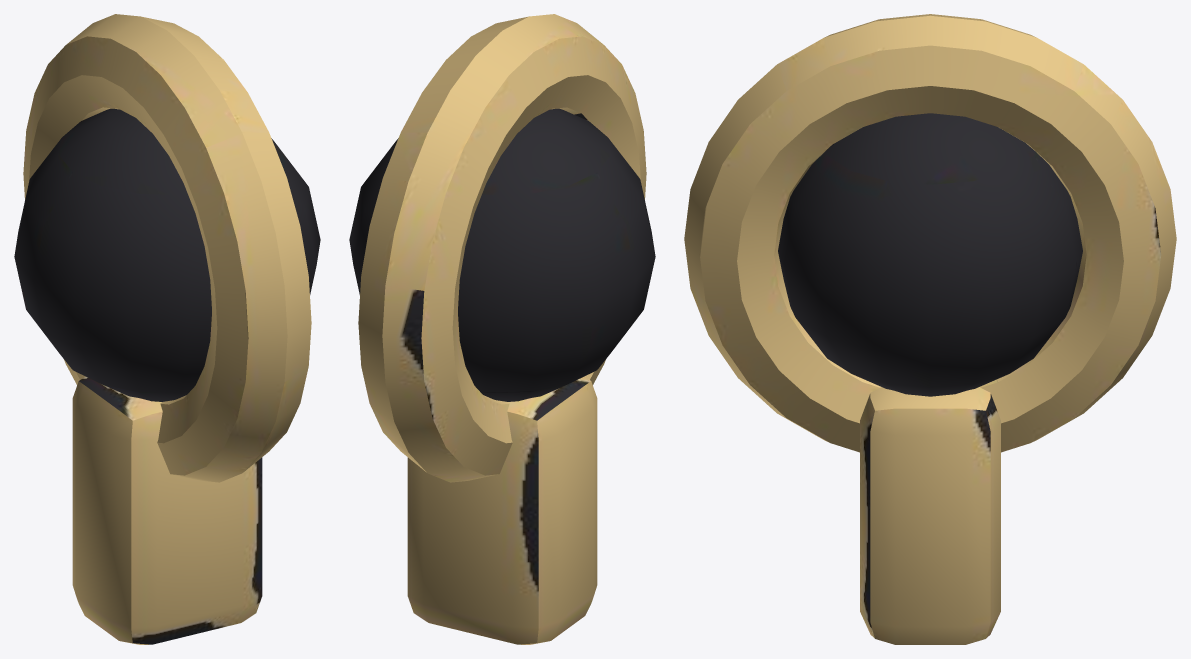
The model's file is att_lodestone.glb.
3 views of the same model, side by side, from view 1: azimuth 30°, elevation 25°; view 2: azimuth 150°, elevation 25°; view 3: azimuth 270°, elevation 25° (orthographic). The views are drawn at different scales.
Parts seen in each view (by area): view 1: setting, stone, post; view 2: setting, stone, post; view 3: setting, stone, post.
Boxes of the visible parts, <box> form: setting: <box>23,14,311,482</box>; stone: <box>14,108,320,401</box>; post: <box>72,376,262,644</box>; setting: <box>358,14,646,482</box>; stone: <box>349,108,655,401</box>; post: <box>407,376,597,644</box>; setting: <box>684,14,1176,452</box>; stone: <box>778,113,1082,396</box>; post: <box>860,387,1000,644</box>.
Bounding box in the file's own units: 0.018 × 0.038 × 0.028.
1 material, 1 textured.
